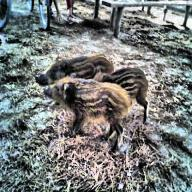boar: (37, 76, 130, 144), (86, 68, 166, 115), (36, 44, 114, 87)
